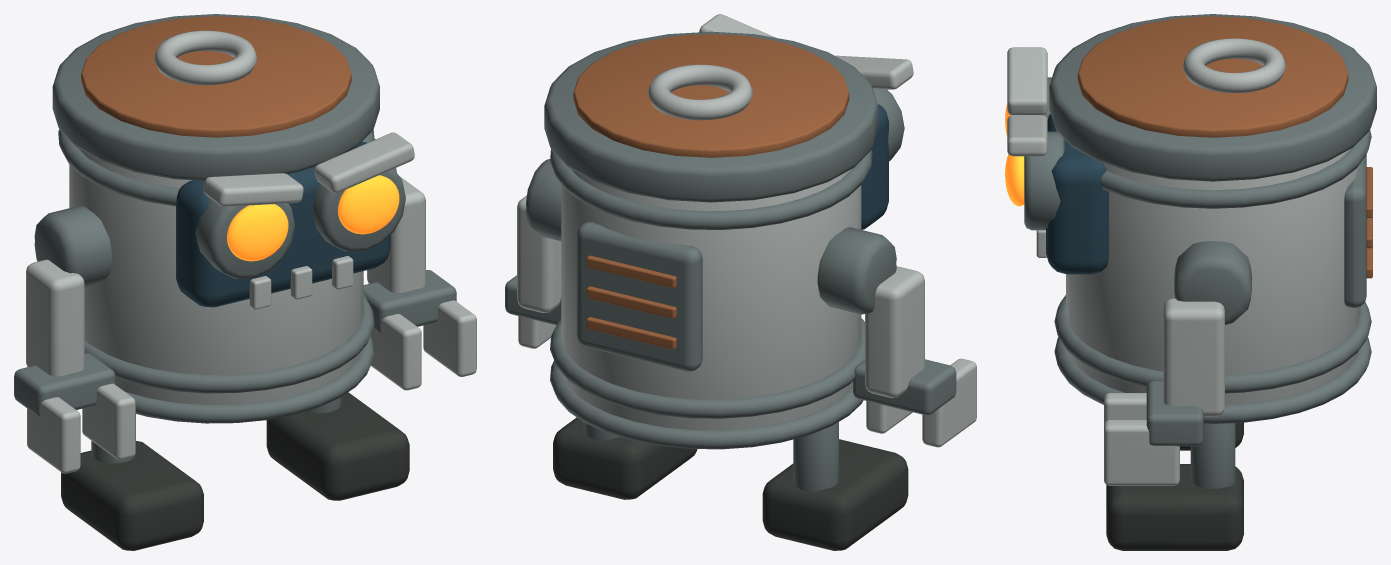
Rendered from enemy-can.glb.
3 views of the same model, side by side, from view 1: azimuth 30°, elevation 25°; view 2: azimuth 150°, elevation 25°; view 3: azimuth 270°, elevation 25° (orthographic).
Visible parts, largest first — view 1: enemy-can_Brushed steel, enemy-can_Gunmetal, enemy-can_Rust, enemy-can_Rubber, enemy-can_Midnight blue, enemy-can_Enemy amber optics; view 2: enemy-can_Gunmetal, enemy-can_Brushed steel, enemy-can_Rust, enemy-can_Rubber, enemy-can_Midnight blue; view 3: enemy-can_Brushed steel, enemy-can_Gunmetal, enemy-can_Rust, enemy-can_Rubber, enemy-can_Midnight blue, enemy-can_Enemy amber optics.
Boxes of the visible parts, bbox=[...] form: enemy-can_Brushed steel: bbox=[26, 30, 476, 473]; enemy-can_Gunmetal: bbox=[14, 14, 456, 463]; enemy-can_Rust: bbox=[81, 16, 351, 137]; enemy-can_Rubber: bbox=[61, 392, 409, 550]; enemy-can_Midnight blue: bbox=[176, 141, 390, 307]; enemy-can_Enemy amber optics: bbox=[227, 175, 399, 261]; enemy-can_Gunmetal: bbox=[505, 31, 956, 491]; enemy-can_Brushed steel: bbox=[517, 14, 976, 447]; enemy-can_Rust: bbox=[573, 34, 849, 349]; enemy-can_Rubber: bbox=[553, 417, 908, 550]; enemy-can_Midnight blue: bbox=[861, 104, 888, 229]; enemy-can_Brushed steel: bbox=[1007, 38, 1360, 485]; enemy-can_Gunmetal: bbox=[1024, 14, 1376, 488]; enemy-can_Rust: bbox=[1077, 16, 1372, 278]; enemy-can_Rubber: bbox=[1106, 422, 1243, 550]; enemy-can_Midnight blue: bbox=[1046, 114, 1108, 274]; enemy-can_Enemy amber optics: bbox=[1005, 104, 1024, 206].
Size of the model in its own units: 1.02 by 0.997 by 0.783.
